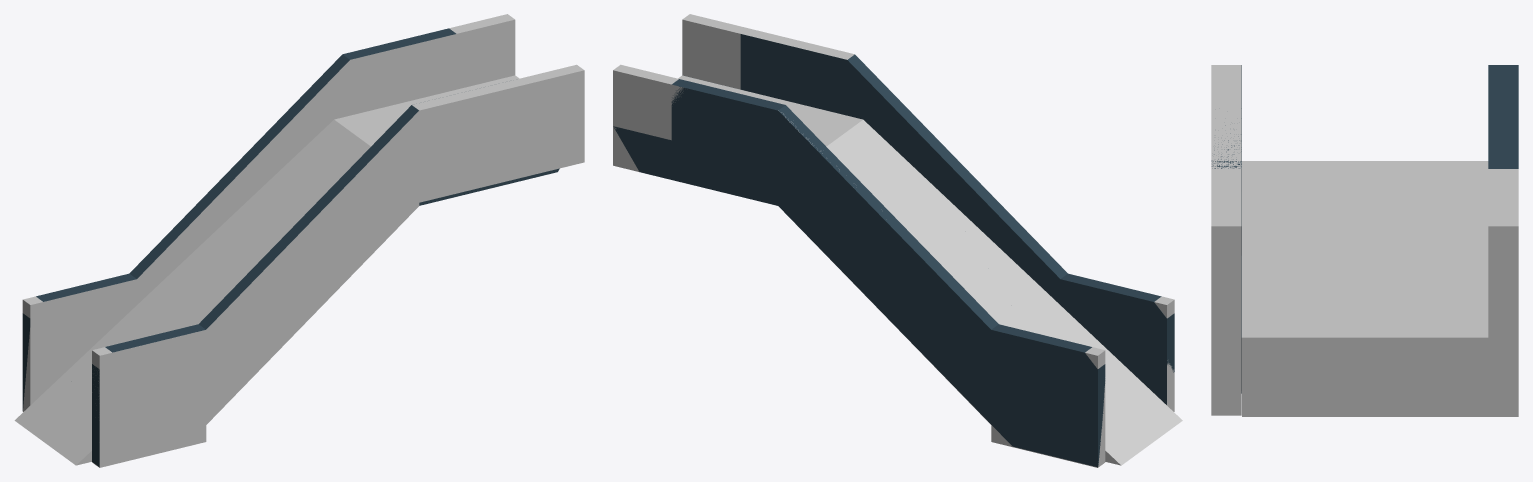
Rendered from SM_Stair_03_a.fbx.
3 renders of one model, left to right at view 1: azimuth 30°, elevation 25°; view 2: azimuth 150°, elevation 25°; view 3: azimuth 270°, elevation 25°, orthographic. The views are drawn at different scales.
Visible parts, largest first — view 1: SM_Stair_03_a_ConvexHulls, SM_Stair_03_a; view 2: SM_Stair_03_a, SM_Stair_03_a_ConvexHulls; view 3: SM_Stair_03_a_ConvexHulls, SM_Stair_03_a.
Boxes of the visible parts, <box> form: SM_Stair_03_a_ConvexHulls: <box>14,14,584,467</box>; SM_Stair_03_a: <box>22,28,559,466</box>; SM_Stair_03_a: <box>613,34,1174,467</box>; SM_Stair_03_a_ConvexHulls: <box>613,14,1182,467</box>; SM_Stair_03_a_ConvexHulls: <box>1211,65,1518,416</box>; SM_Stair_03_a: <box>1211,65,1518,393</box>.
Size of the model in its own units: 940 by 250 by 501.
2 materials, 1 textured.
